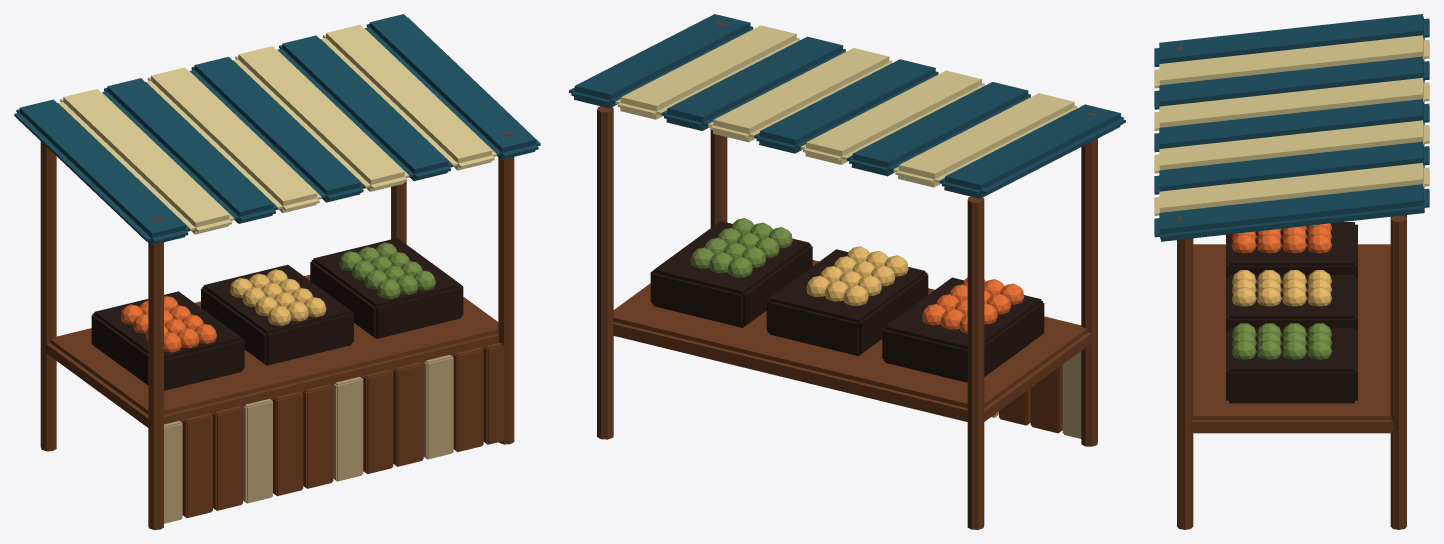
File: market_stall.glb
3 views of the same model, side by side, from view 1: azimuth 30°, elevation 25°; view 2: azimuth 150°, elevation 25°; view 3: azimuth 270°, elevation 25° (orthographic). The views are drawn at different scales.
Visible parts, largest first — view 1: Market stallMesh; view 2: Market stallMesh; view 3: Market stallMesh.
Part boxes in pixels (x1,y1,x2,y2): Market stallMesh: [14, 14, 540, 529]; Market stallMesh: [569, 14, 1125, 529]; Market stallMesh: [1154, 14, 1429, 529].
Bounding box in the file's own units: 3.6 × 2.93 × 2.19.
